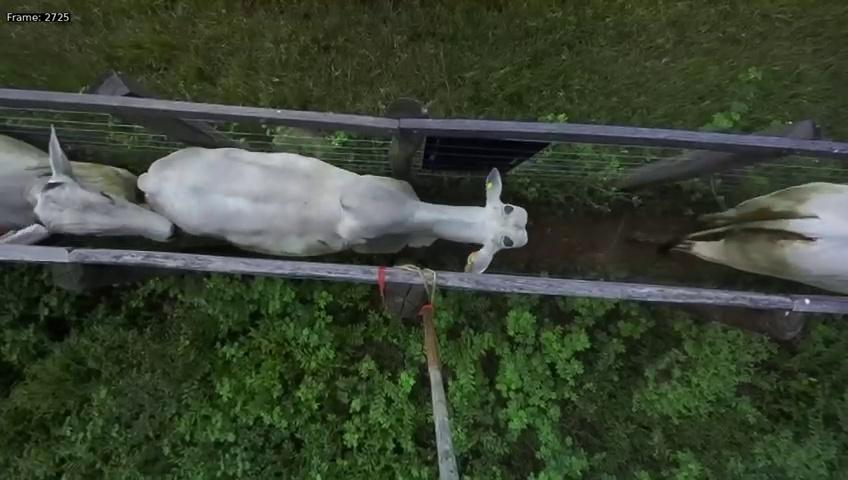cattle: (136, 121, 530, 274)
